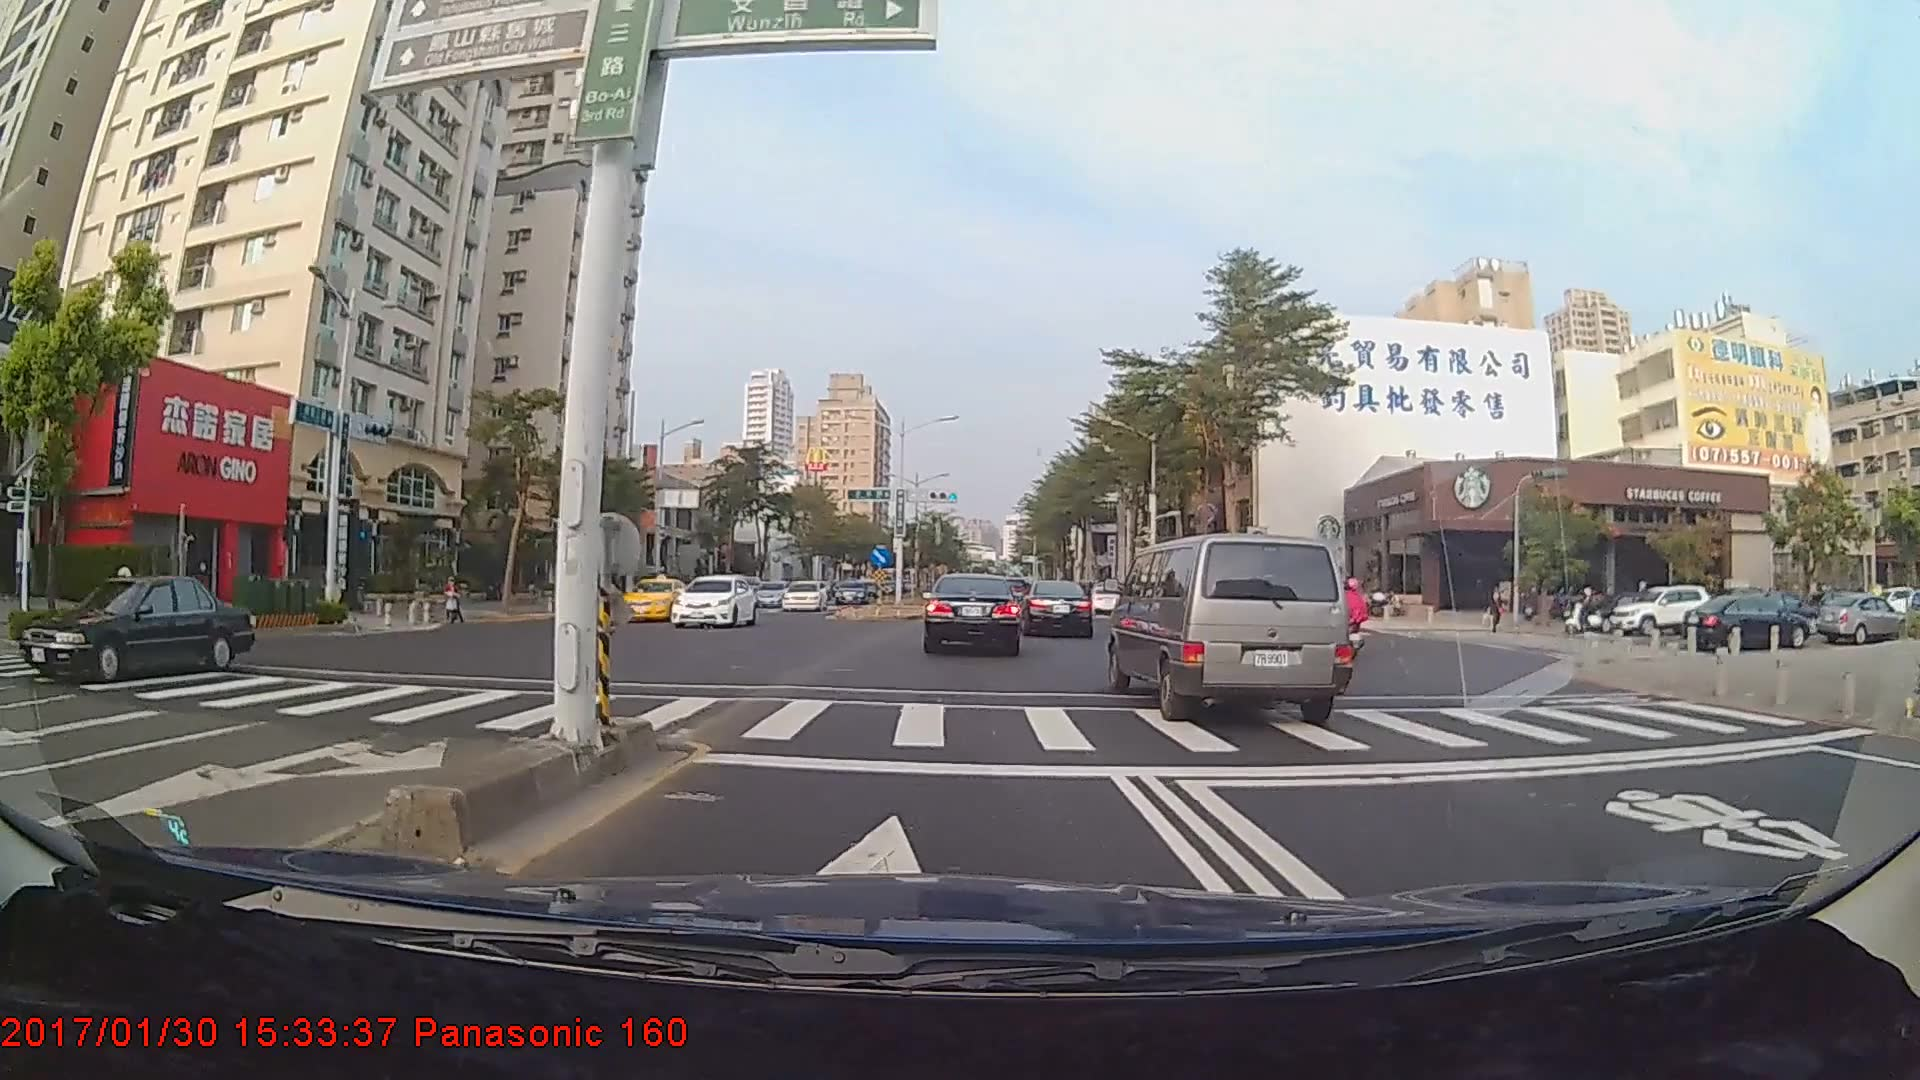rider: (1569, 584, 1612, 639)
vehicle: (1113, 531, 1353, 722), (14, 571, 257, 684), (921, 573, 1024, 656), (1686, 586, 1816, 649), (1609, 586, 1710, 635), (1806, 592, 1904, 642), (668, 572, 758, 627), (1019, 578, 1094, 640), (617, 576, 692, 623), (779, 579, 828, 611), (833, 577, 869, 603)
